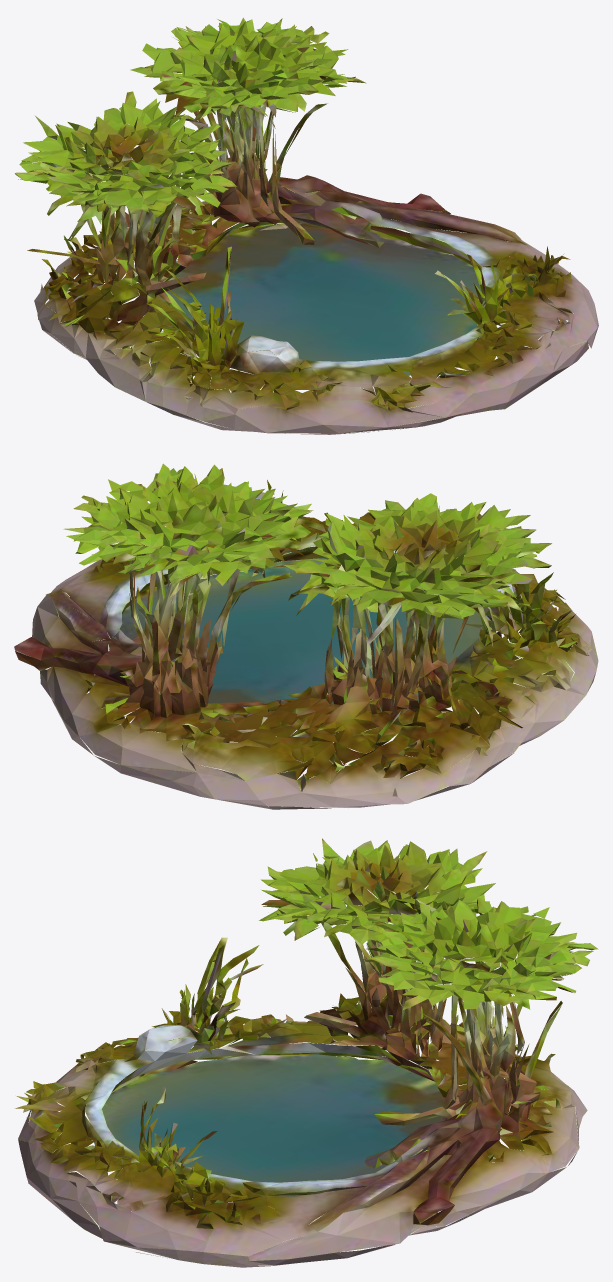
File: wt-bog-murk-pool.glb
3 views of the same model, one above another, from view 1: azimuth 30°, elevation 25°; view 2: azimuth 150°, elevation 25°; view 3: azimuth 270°, elevation 25° (orthographic). The views are drawn at different scales.
Visible parts, largest first — view 1: tmpck10_zw3.ply; view 2: tmpck10_zw3.ply; view 3: tmpck10_zw3.ply.
Boxes of the visible parts, x1=… form: tmpck10_zw3.ply: x1=15, y1=17, x2=598, y2=434; tmpck10_zw3.ply: x1=14, y1=463, x2=598, y2=809; tmpck10_zw3.ply: x1=15, y1=838, x2=598, y2=1267.
Bounding box in the file's own units: 5.22 × 2.35 × 5.31.
1 material, 1 textured.
